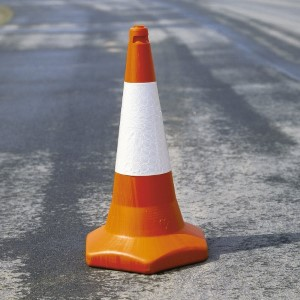traffic cone: (85, 26, 209, 276)
